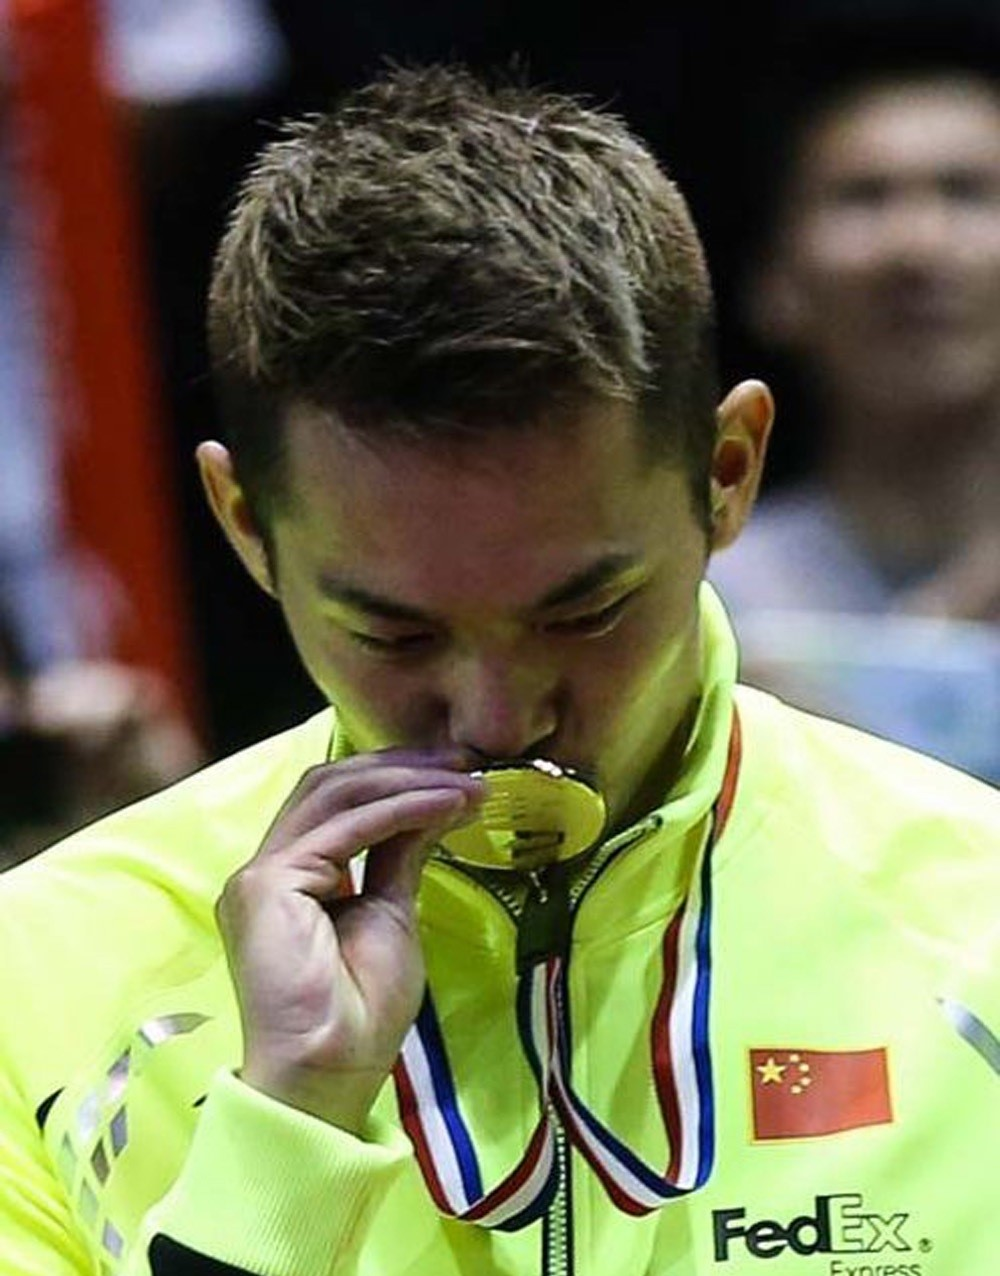face: (284, 346, 698, 864), (807, 82, 999, 408)
